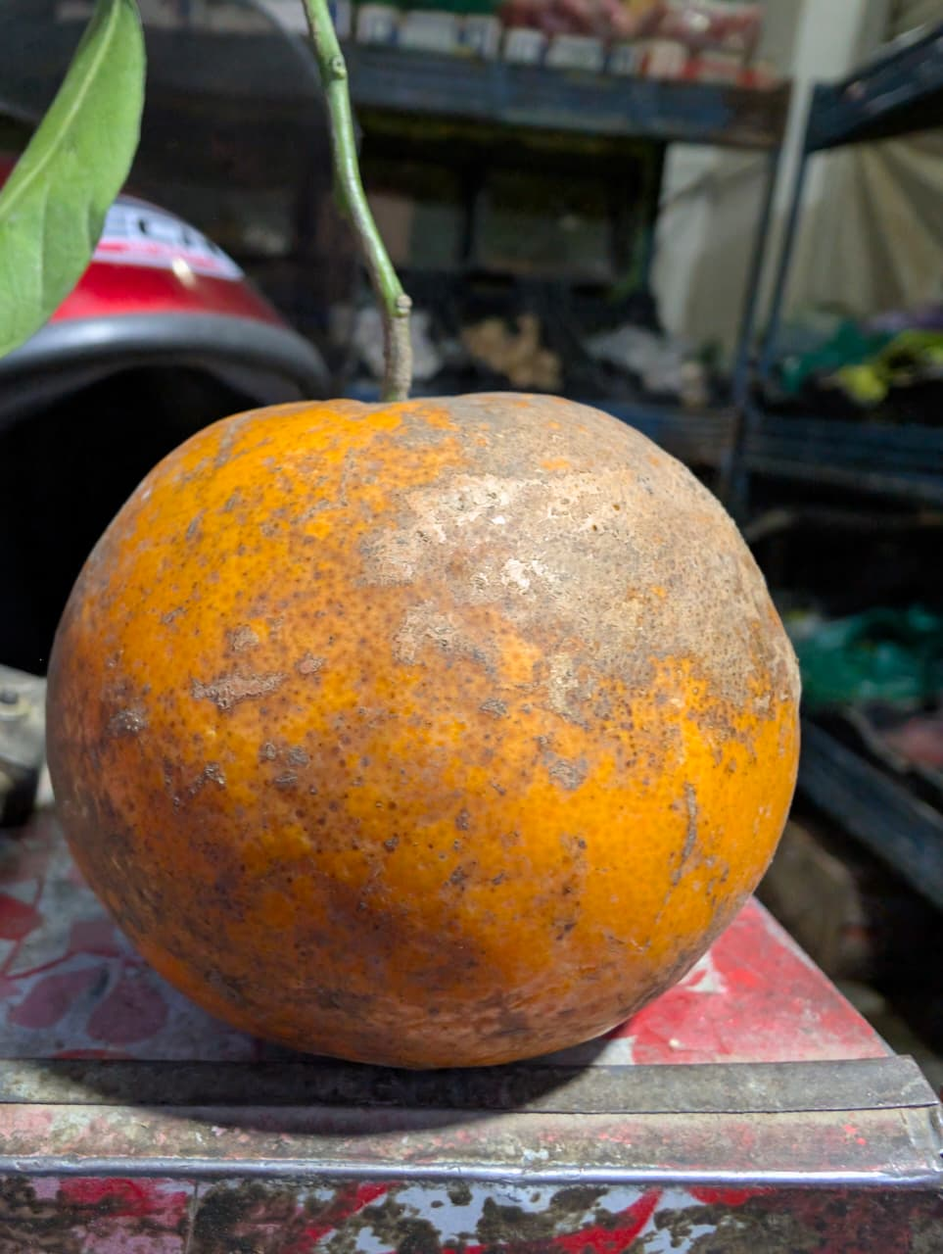orange: (113, 120, 713, 907)
